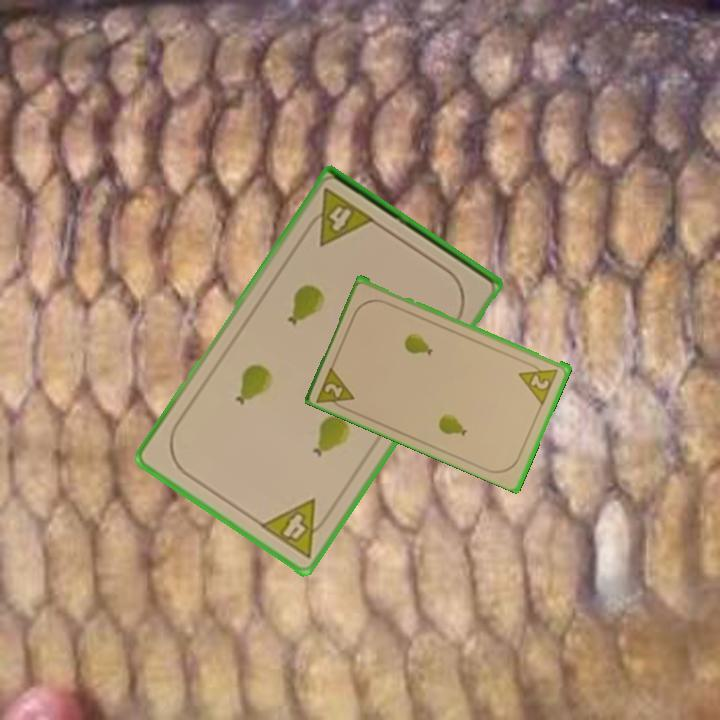2p: (313, 361, 358, 414), (516, 359, 561, 406)
4p: (256, 495, 336, 561), (300, 184, 378, 249)
